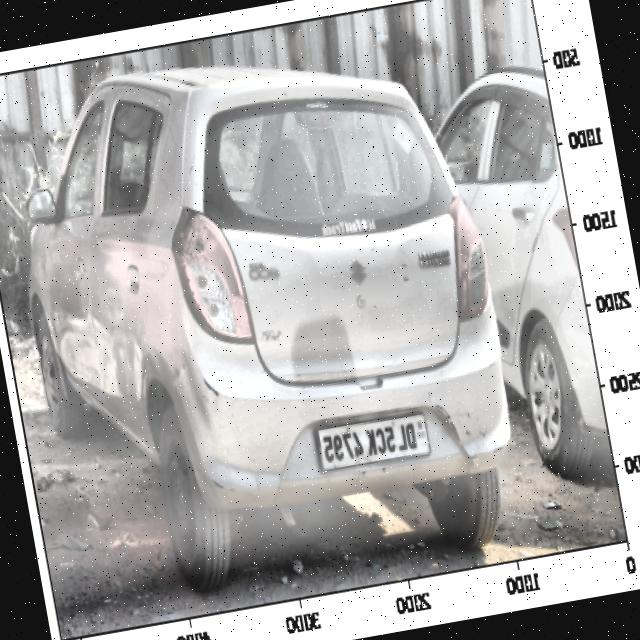license_plate: (314, 411, 423, 468)
